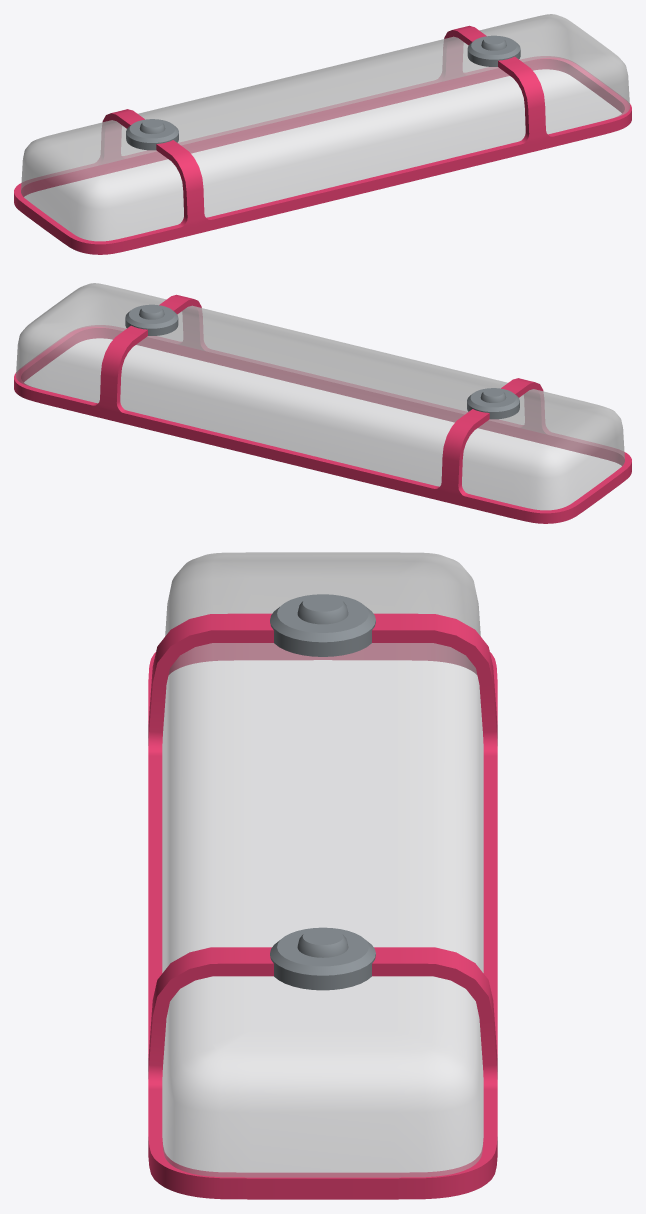
Rendered from hop_l_3_T2.fbx.
The picture shows the model from 3 angles, top to bottom: view 1: azimuth 30°, elevation 25°; view 2: azimuth 150°, elevation 25°; view 3: azimuth 270°, elevation 25°; orthographic projection. The views are drawn at different scales.
Visible parts, largest first — view 1: Cube.021, Cube.022, Cylinder.179, Cylinder.031; view 2: Cube.021, Cube.022, Cylinder.179, Cylinder.031; view 3: Cube.021, Cube.022, Cylinder.179, Cylinder.031.
Part boxes in pixels (left/top/right/bottom): Cube.021: left=21, top=14, right=629, bottom=241; Cube.022: left=14, top=25, right=631, bottom=254; Cylinder.179: left=467, top=35, right=520, bottom=66; Cylinder.031: left=126, top=119, right=178, bottom=150; Cube.021: left=16, top=283, right=624, bottom=510; Cube.022: left=14, top=294, right=631, bottom=523; Cylinder.179: left=125, top=304, right=178, bottom=335; Cylinder.031: left=467, top=388, right=519, bottom=419; Cube.021: left=162, top=552, right=483, bottom=1177; Cube.022: left=148, top=613, right=497, bottom=1199; Cylinder.179: left=270, top=927, right=375, bottom=990; Cylinder.031: left=270, top=594, right=375, bottom=656.
Size of the model in its own units: 557 by 75 by 151.
